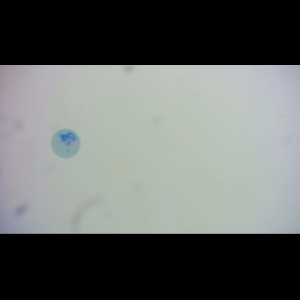aggregate reticulocyte: (50, 127, 82, 160)
